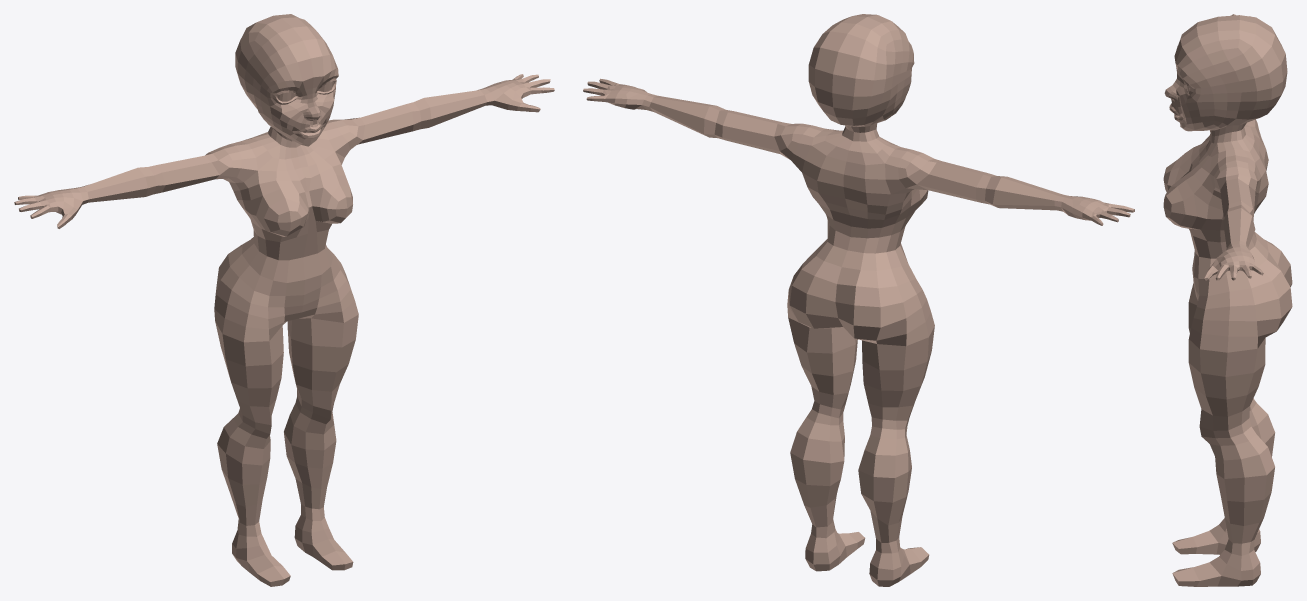
File: Quinn_Base2.fbx
The picture shows the model from 3 angles, left to right: view 1: azimuth 30°, elevation 25°; view 2: azimuth 150°, elevation 25°; view 3: azimuth 270°, elevation 25°; orthographic projection. The views are drawn at different scales.
Parts seen in each view (by area): view 1: Quinn_Body_Low2:polySurface1; view 2: Quinn_Body_Low2:polySurface1; view 3: Quinn_Body_Low2:polySurface1.
Part boxes in pixels (left/top/right/bottom): Quinn_Body_Low2:polySurface1: left=14, top=14, right=554, bottom=586; Quinn_Body_Low2:polySurface1: left=583, top=14, right=1134, bottom=586; Quinn_Body_Low2:polySurface1: left=1163, top=14, right=1292, bottom=586.
Size of the model in its own units: 314 by 304 by 64.98.
